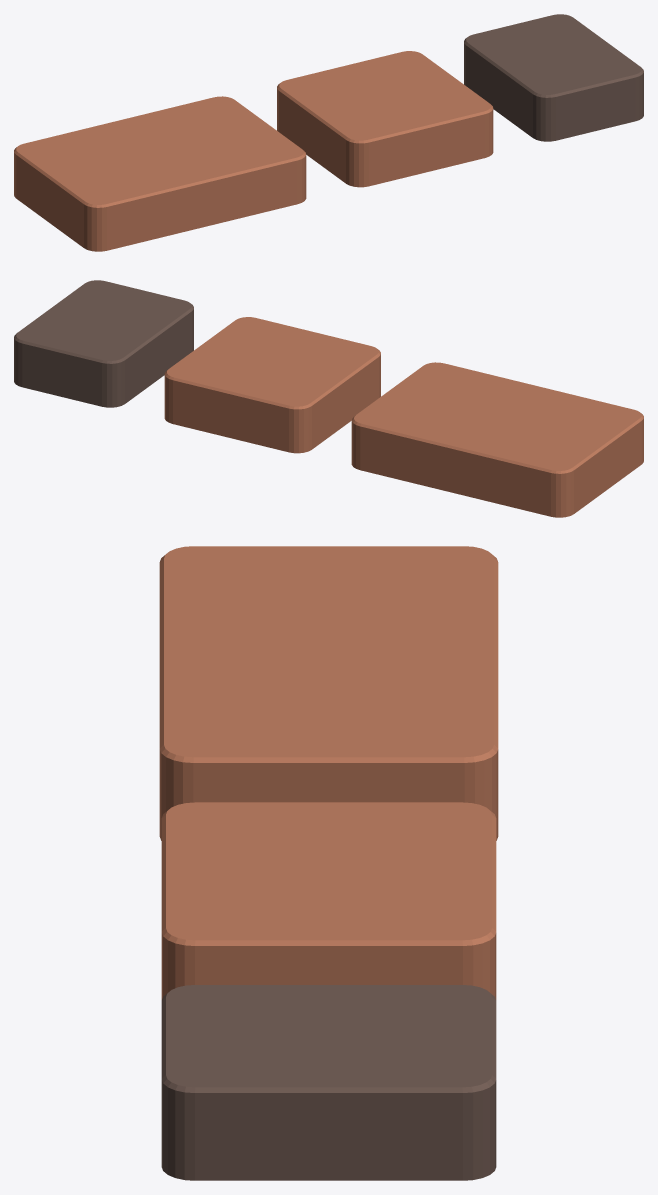
The model's file is mahsulot.glb.
3 views of the same model, one above another, from view 1: azimuth 30°, elevation 25°; view 2: azimuth 150°, elevation 25°; view 3: azimuth 270°, elevation 25° (orthographic). The views are drawn at different scales.
Visible parts, largest first — view 1: mahsulot_A, mahsulot_B, mahsulot_V; view 2: mahsulot_A, mahsulot_B, mahsulot_V; view 3: mahsulot_A, mahsulot_V, mahsulot_B.
Part boxes in pixels (x1=…): mahsulot_A: x1=14, y1=96, x2=306, y2=251; mahsulot_B: x1=277, y1=51, x2=493, y2=187; mahsulot_V: x1=464, y1=14, x2=643, y2=141; mahsulot_A: x1=351, y1=362, x2=643, y2=517; mahsulot_B: x1=164, y1=317, x2=380, y2=453; mahsulot_V: x1=14, y1=280, x2=193, y2=407; mahsulot_A: x1=159, y1=546, x2=498, y2=840; mahsulot_V: x1=161, y1=985, x2=496, y2=1180; mahsulot_B: x1=161, y1=802, x2=496, y2=999.
Size of the model in its own units: 0.4465 by 0.035 by 0.1173.
